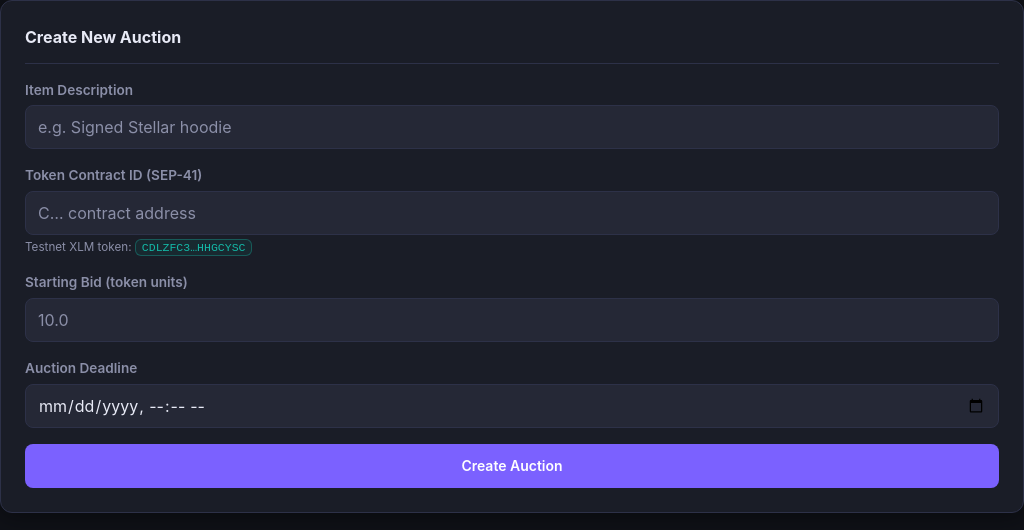
Test: CreateAuction — rendering › autofills the token field when the chip is clicked
Step 1. Click the button titled "click to autofill" → x=194, y=248, box top-left (135, 239), bottom-right (252, 256)
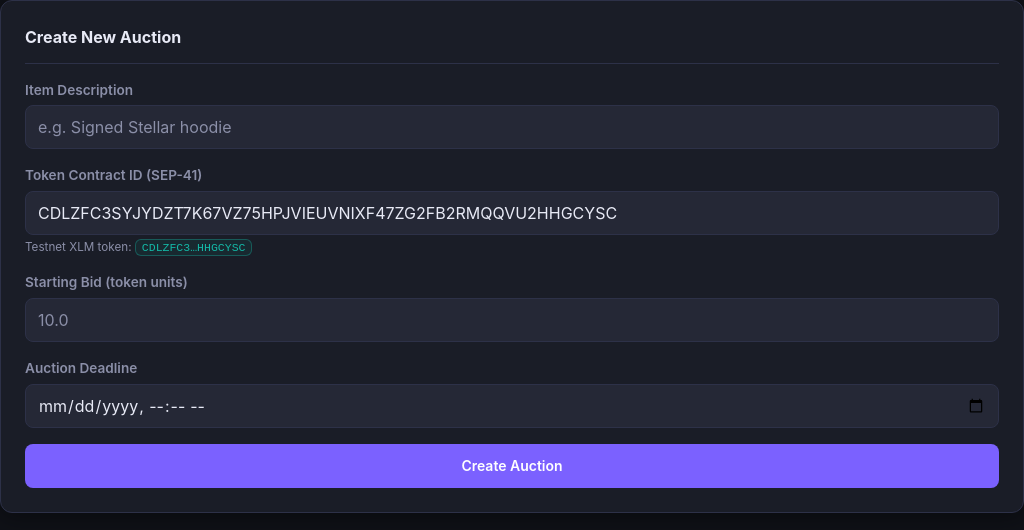
Expected: the field with placeholder "C… contract address" holds "CDLZFC3SYJYDZT7K67VZ75HPJVIEUVNIXF47ZG2FB2RMQQVU2HHGCYSC", top-left (25, 191), bottom-right (999, 235)
